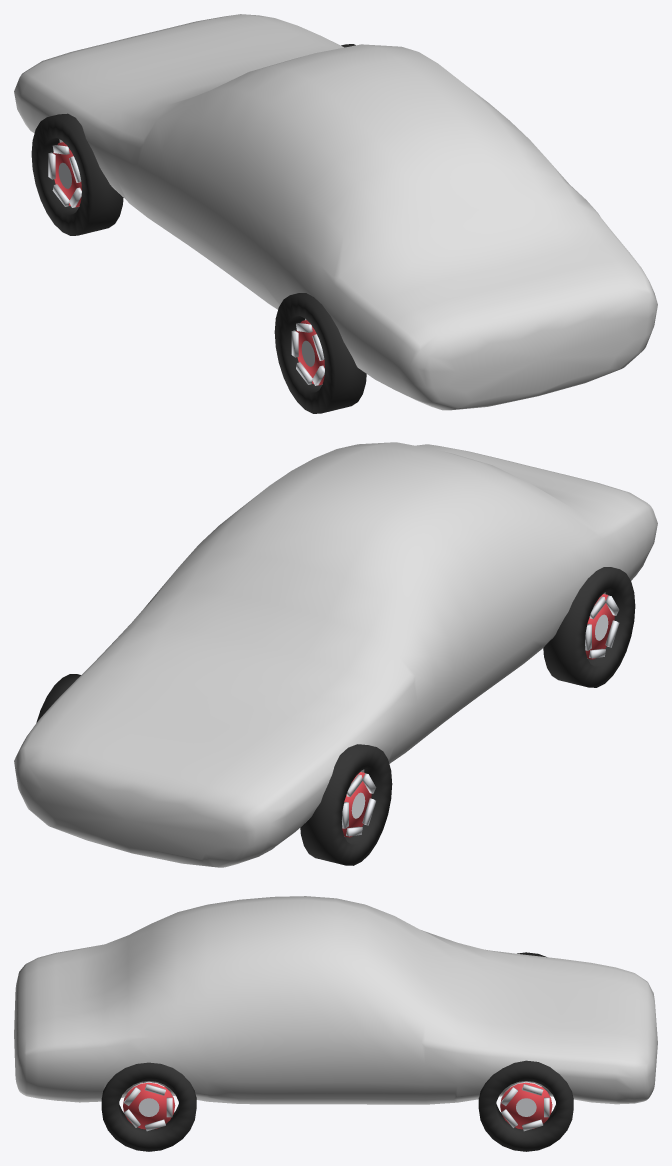
The model's file is Car_Sedan_01.fbx.
The picture shows the model from 3 angles, top to bottom: view 1: azimuth 30°, elevation 25°; view 2: azimuth 150°, elevation 25°; view 3: azimuth 270°, elevation 25°; orthographic projection. The views are drawn at different scales.
Visible parts, largest first — view 1: Car_Sedan_01, Wheel_RL, Wheel_FL; view 2: Car_Sedan_01, Wheel_FL, Wheel_RL; view 3: Car_Sedan_01, Wheel_FR, Wheel_RR.
Part boxes in pixels (x1,y1,x2,y2): Car_Sedan_01: [14, 14, 657, 410]; Wheel_RL: [274, 293, 366, 413]; Wheel_FL: [31, 113, 123, 235]; Car_Sedan_01: [14, 442, 657, 867]; Wheel_FL: [300, 744, 392, 865]; Wheel_RL: [543, 567, 635, 687]; Car_Sedan_01: [14, 896, 657, 1104]; Wheel_FR: [478, 1060, 573, 1151]; Wheel_RR: [101, 1062, 196, 1151].
Bounding box in the file's own units: 1.92 × 1.43 × 4.61.
